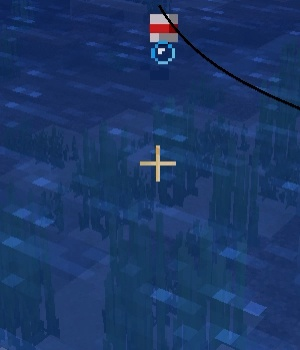up: (138, 3, 194, 68)
